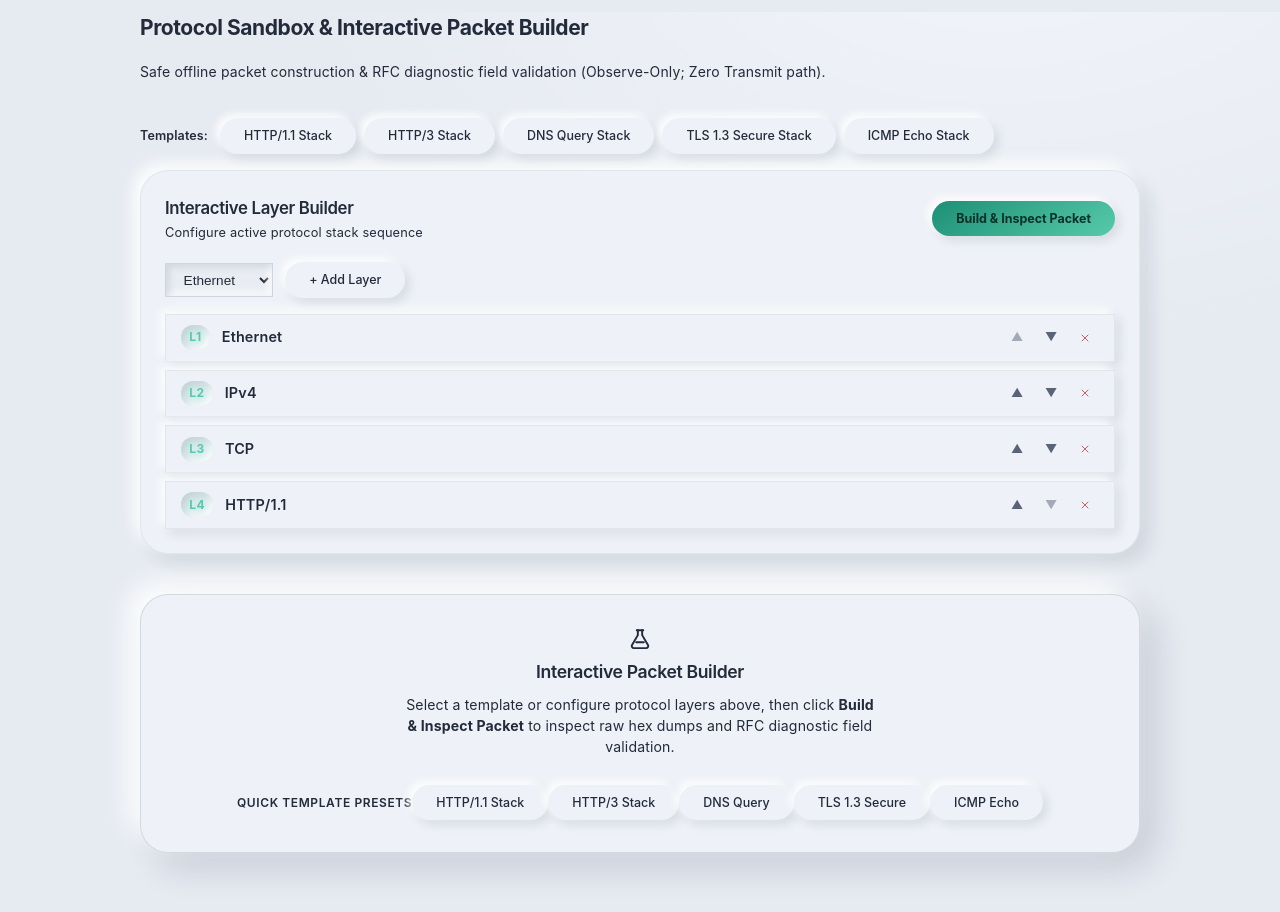
Scenario: ProtocolSandboxScreen & useSandboxController › loads preset templates into builder and executes packet inspection per existing controller contract
The width and height of the screenshot is (1280, 912).
Click the button with aria-label "Load DNS Query Stack template". click: (579, 136)
box: [503,118,654,154]
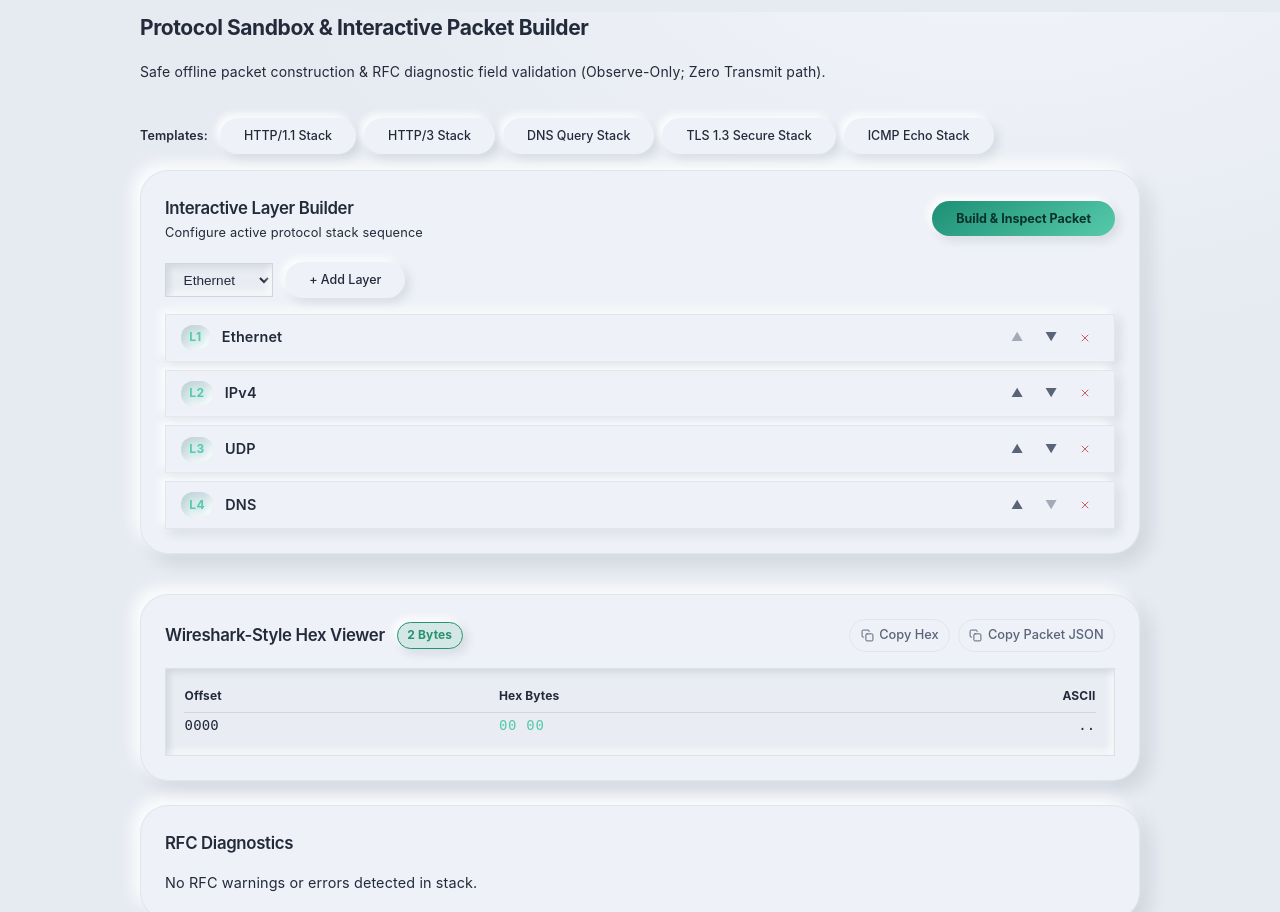
Check: the heading "Wireshark-Style Hex Viewer" is shown, box [165,622,385,648]
